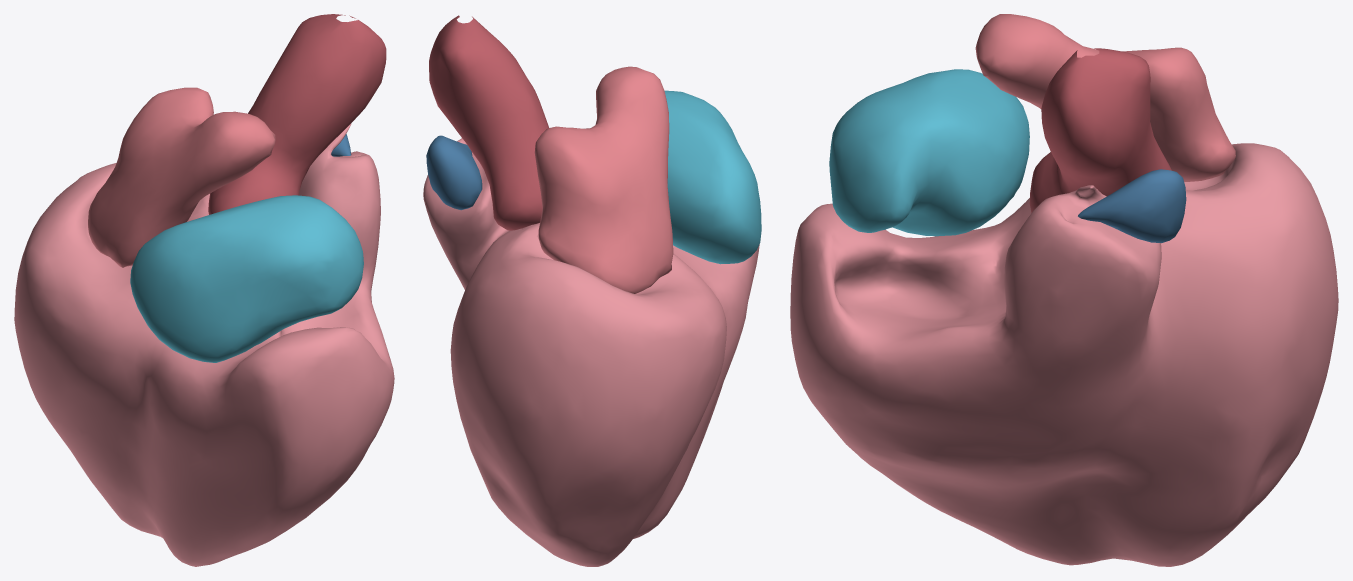
The model's file is frame_13.glb.
3 renders of one model, left to right at view 1: azimuth 30°, elevation 25°; view 2: azimuth 150°, elevation 25°; view 3: azimuth 270°, elevation 25°, orthographic. The views are drawn at different scales.
Visible parts, largest first — view 1: Renderer Node; view 2: Renderer Node; view 3: Renderer Node.
Part boxes in pixels (x1=…): Renderer Node: x1=14, y1=14, x2=394, y2=566; Renderer Node: x1=423, y1=15, x2=761, y2=566; Renderer Node: x1=790, y1=14, x2=1338, y2=566.
Bounding box in the file's own units: 107 × 163 × 134.
